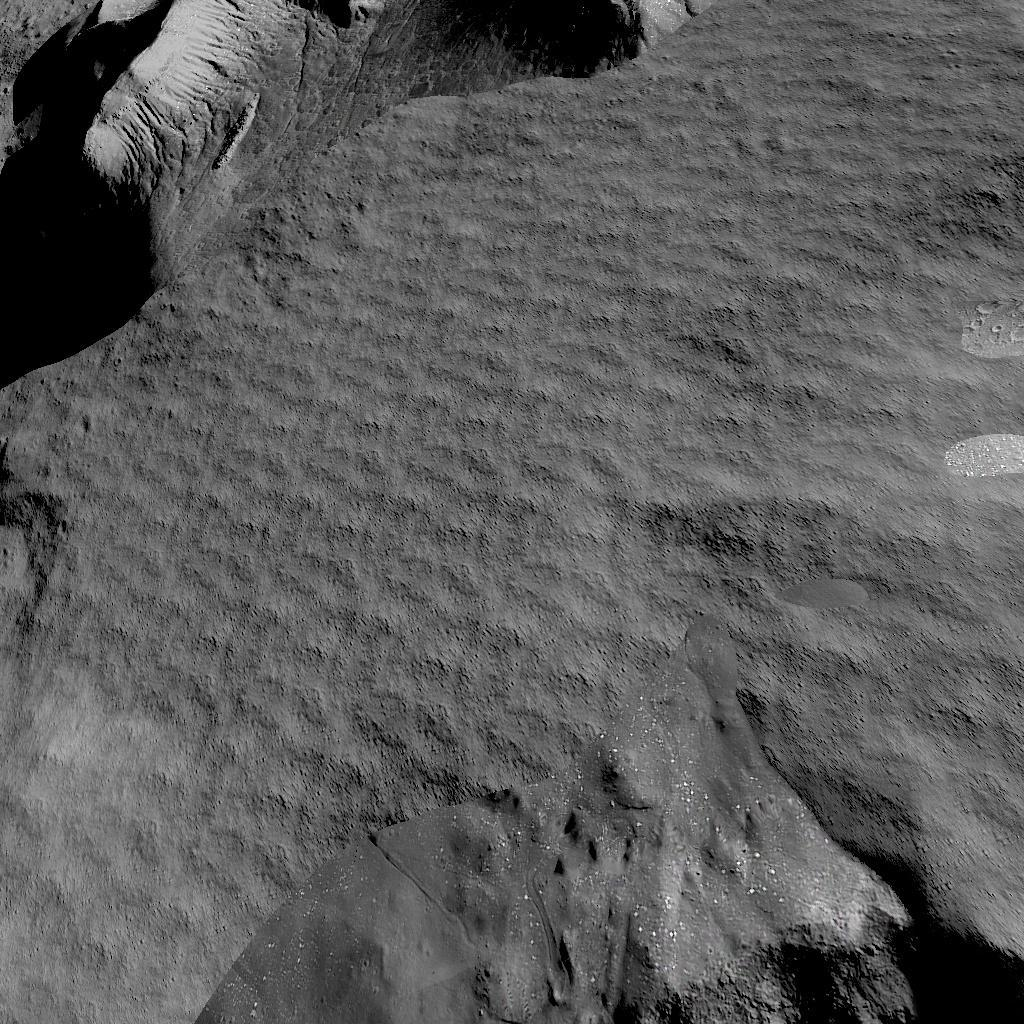Boulders: (0, 0, 718, 388)
Crater: (201, 792, 1024, 1024)
Plan surface: (0, 400, 1024, 778), (731, 0, 1024, 385), (0, 792, 191, 1024)
